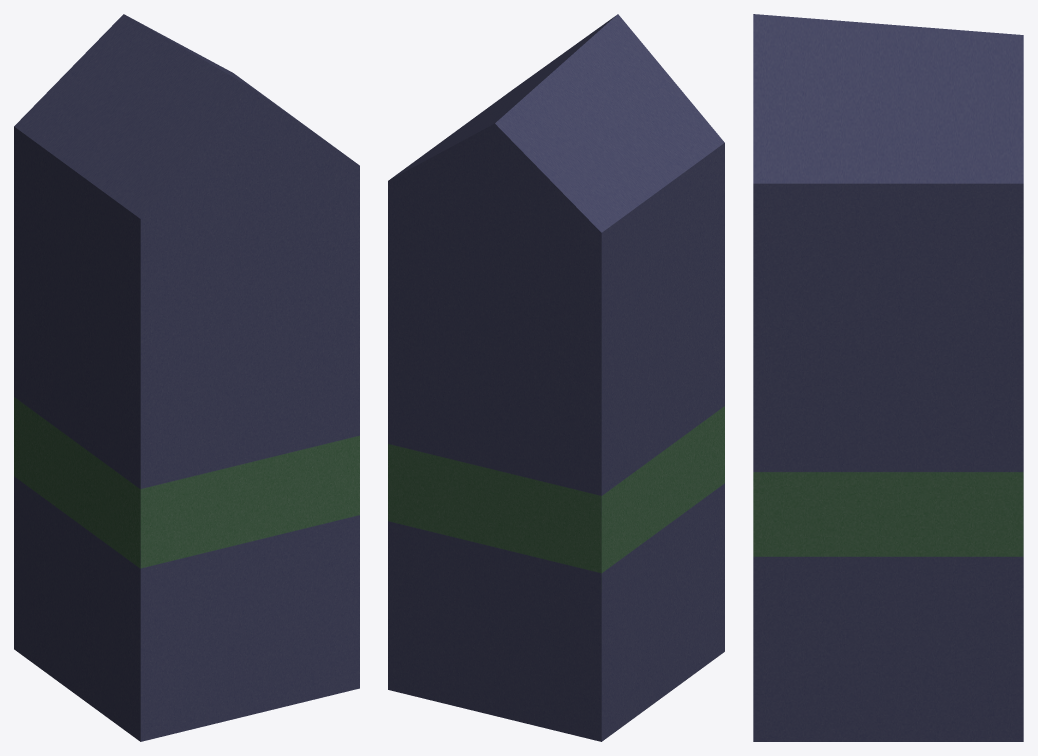
Rendered from milk2.fbx.
3 views of the same model, side by side, from view 1: azimuth 30°, elevation 25°; view 2: azimuth 150°, elevation 25°; view 3: azimuth 270°, elevation 25° (orthographic). The views are drawn at different scales.
Visible parts, largest first — view 1: milk.001; view 2: milk.001; view 3: milk.001.
Boxes of the visible parts, x1,y1,x2,y2 form: milk.001: (14,14,359,741); milk.001: (388,14,724,741); milk.001: (753,14,1023,741).
Size of the model in its own units: 46.62 by 128 by 46.62.
